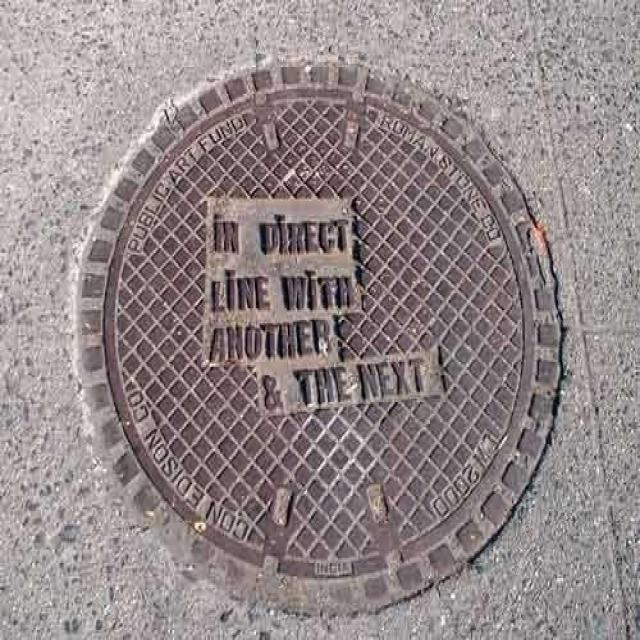manhole: (81, 65, 560, 614)
